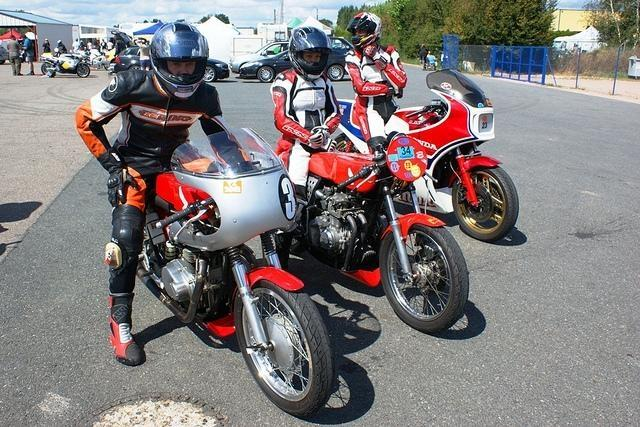car: (238, 37, 354, 82), (231, 43, 290, 74), (204, 58, 227, 82), (0, 40, 10, 64)
motorcycle: (136, 125, 334, 355), (296, 130, 470, 333), (379, 68, 516, 245), (40, 48, 91, 78)
